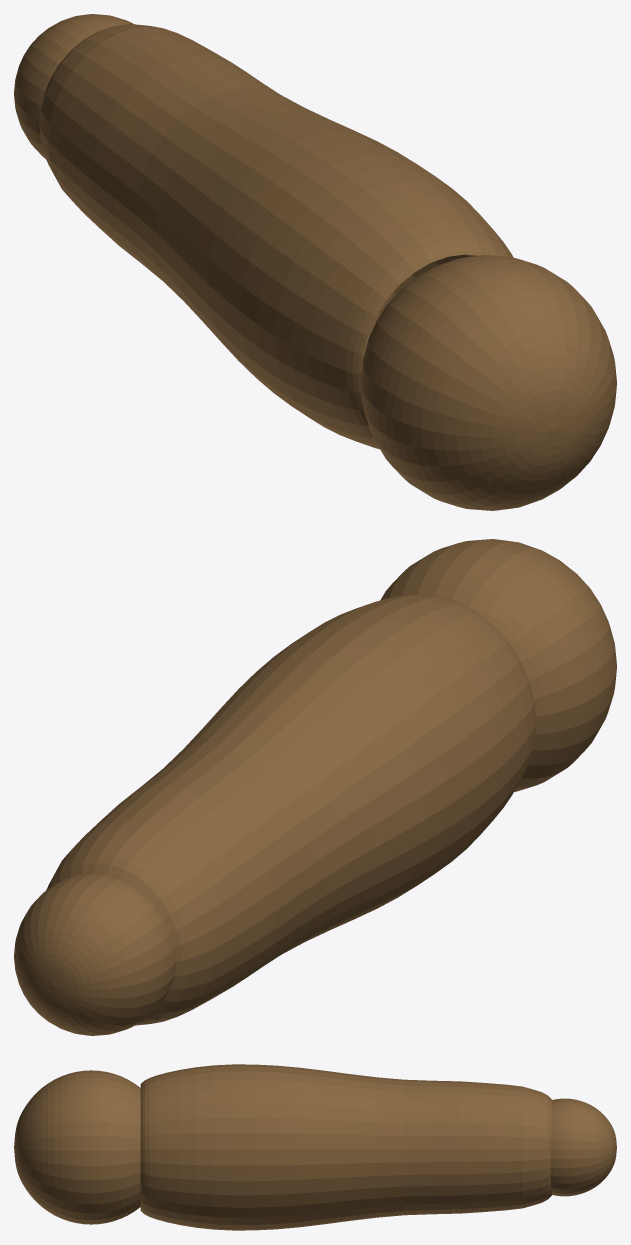
Rendered from RKsegment_joint_visu.dae.
The picture shows the model from 3 angles, top to bottom: view 1: azimuth 30°, elevation 25°; view 2: azimuth 150°, elevation 25°; view 3: azimuth 270°, elevation 25°; orthographic projection. The views are drawn at different scales.
Parts seen in each view (by area): view 1: node; view 2: node; view 3: node.
Part boxes in pixels (left/top/right/bottom): node: left=14, top=14, right=616, bottom=510; node: left=14, top=539, right=616, bottom=1035; node: left=14, top=1064, right=616, bottom=1230.
Bounding box in the file's own units: 0.082 × 0.087 × 0.312.
